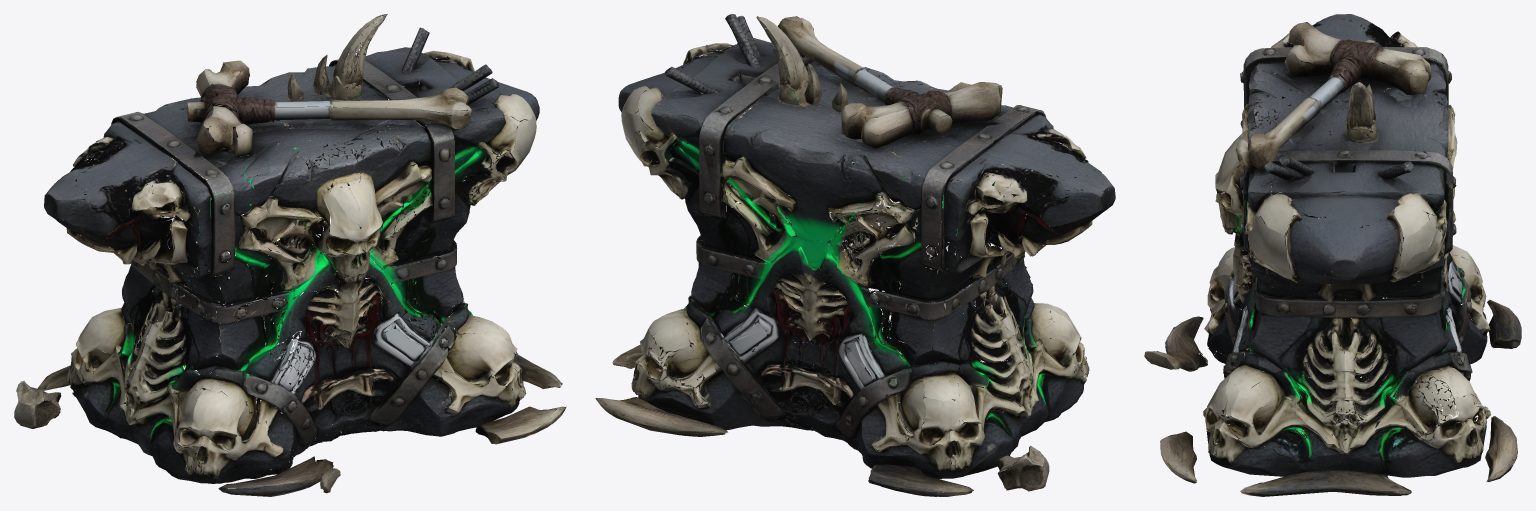
Rendered from carapace_ossuary_anvil.glb.
3 views of the same model, side by side, from view 1: azimuth 30°, elevation 25°; view 2: azimuth 150°, elevation 25°; view 3: azimuth 270°, elevation 25° (orthographic).
Parts seen in each view (by area): view 1: node_0; view 2: node_0; view 3: node_0.
Boxes of the visible parts, bbox=[...] form: node_0: bbox=[14, 14, 566, 496]; node_0: bbox=[595, 14, 1115, 496]; node_0: bbox=[1144, 14, 1521, 496].
Bounding box in the file's own units: 0.9742 × 0.7016 × 0.6716.
Materials: 1 (1 with a texture image).
